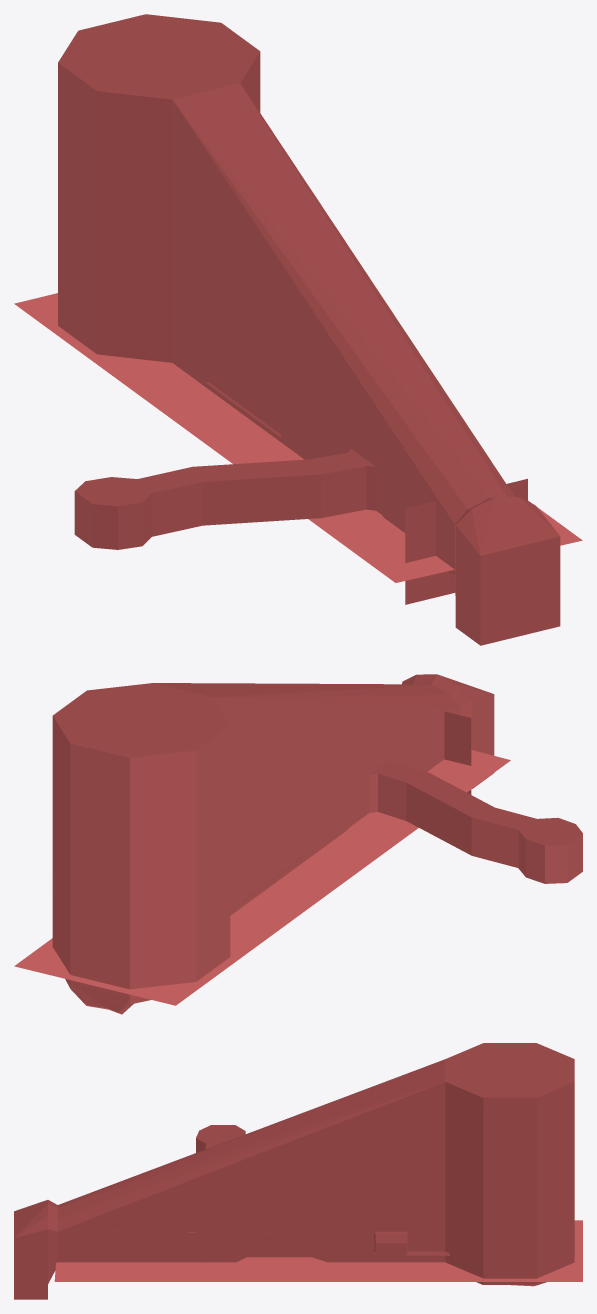
Rendered from metal_switch.glb.
The picture shows the model from 3 angles, top to bottom: view 1: azimuth 30°, elevation 25°; view 2: azimuth 150°, elevation 25°; view 3: azimuth 270°, elevation 25°; orthographic projection. The views are drawn at different scales.
Parts seen in each view (by area): view 1: metal_switch_col; view 2: metal_switch_col; view 3: metal_switch_col.
Part boxes in pixels (x1,y1,x2,y2): metal_switch_col: [14, 14, 582, 645]; metal_switch_col: [14, 674, 582, 1014]; metal_switch_col: [14, 1043, 582, 1299].
Size of the model in its own units: 6.14 by 4.94 by 11.7.
